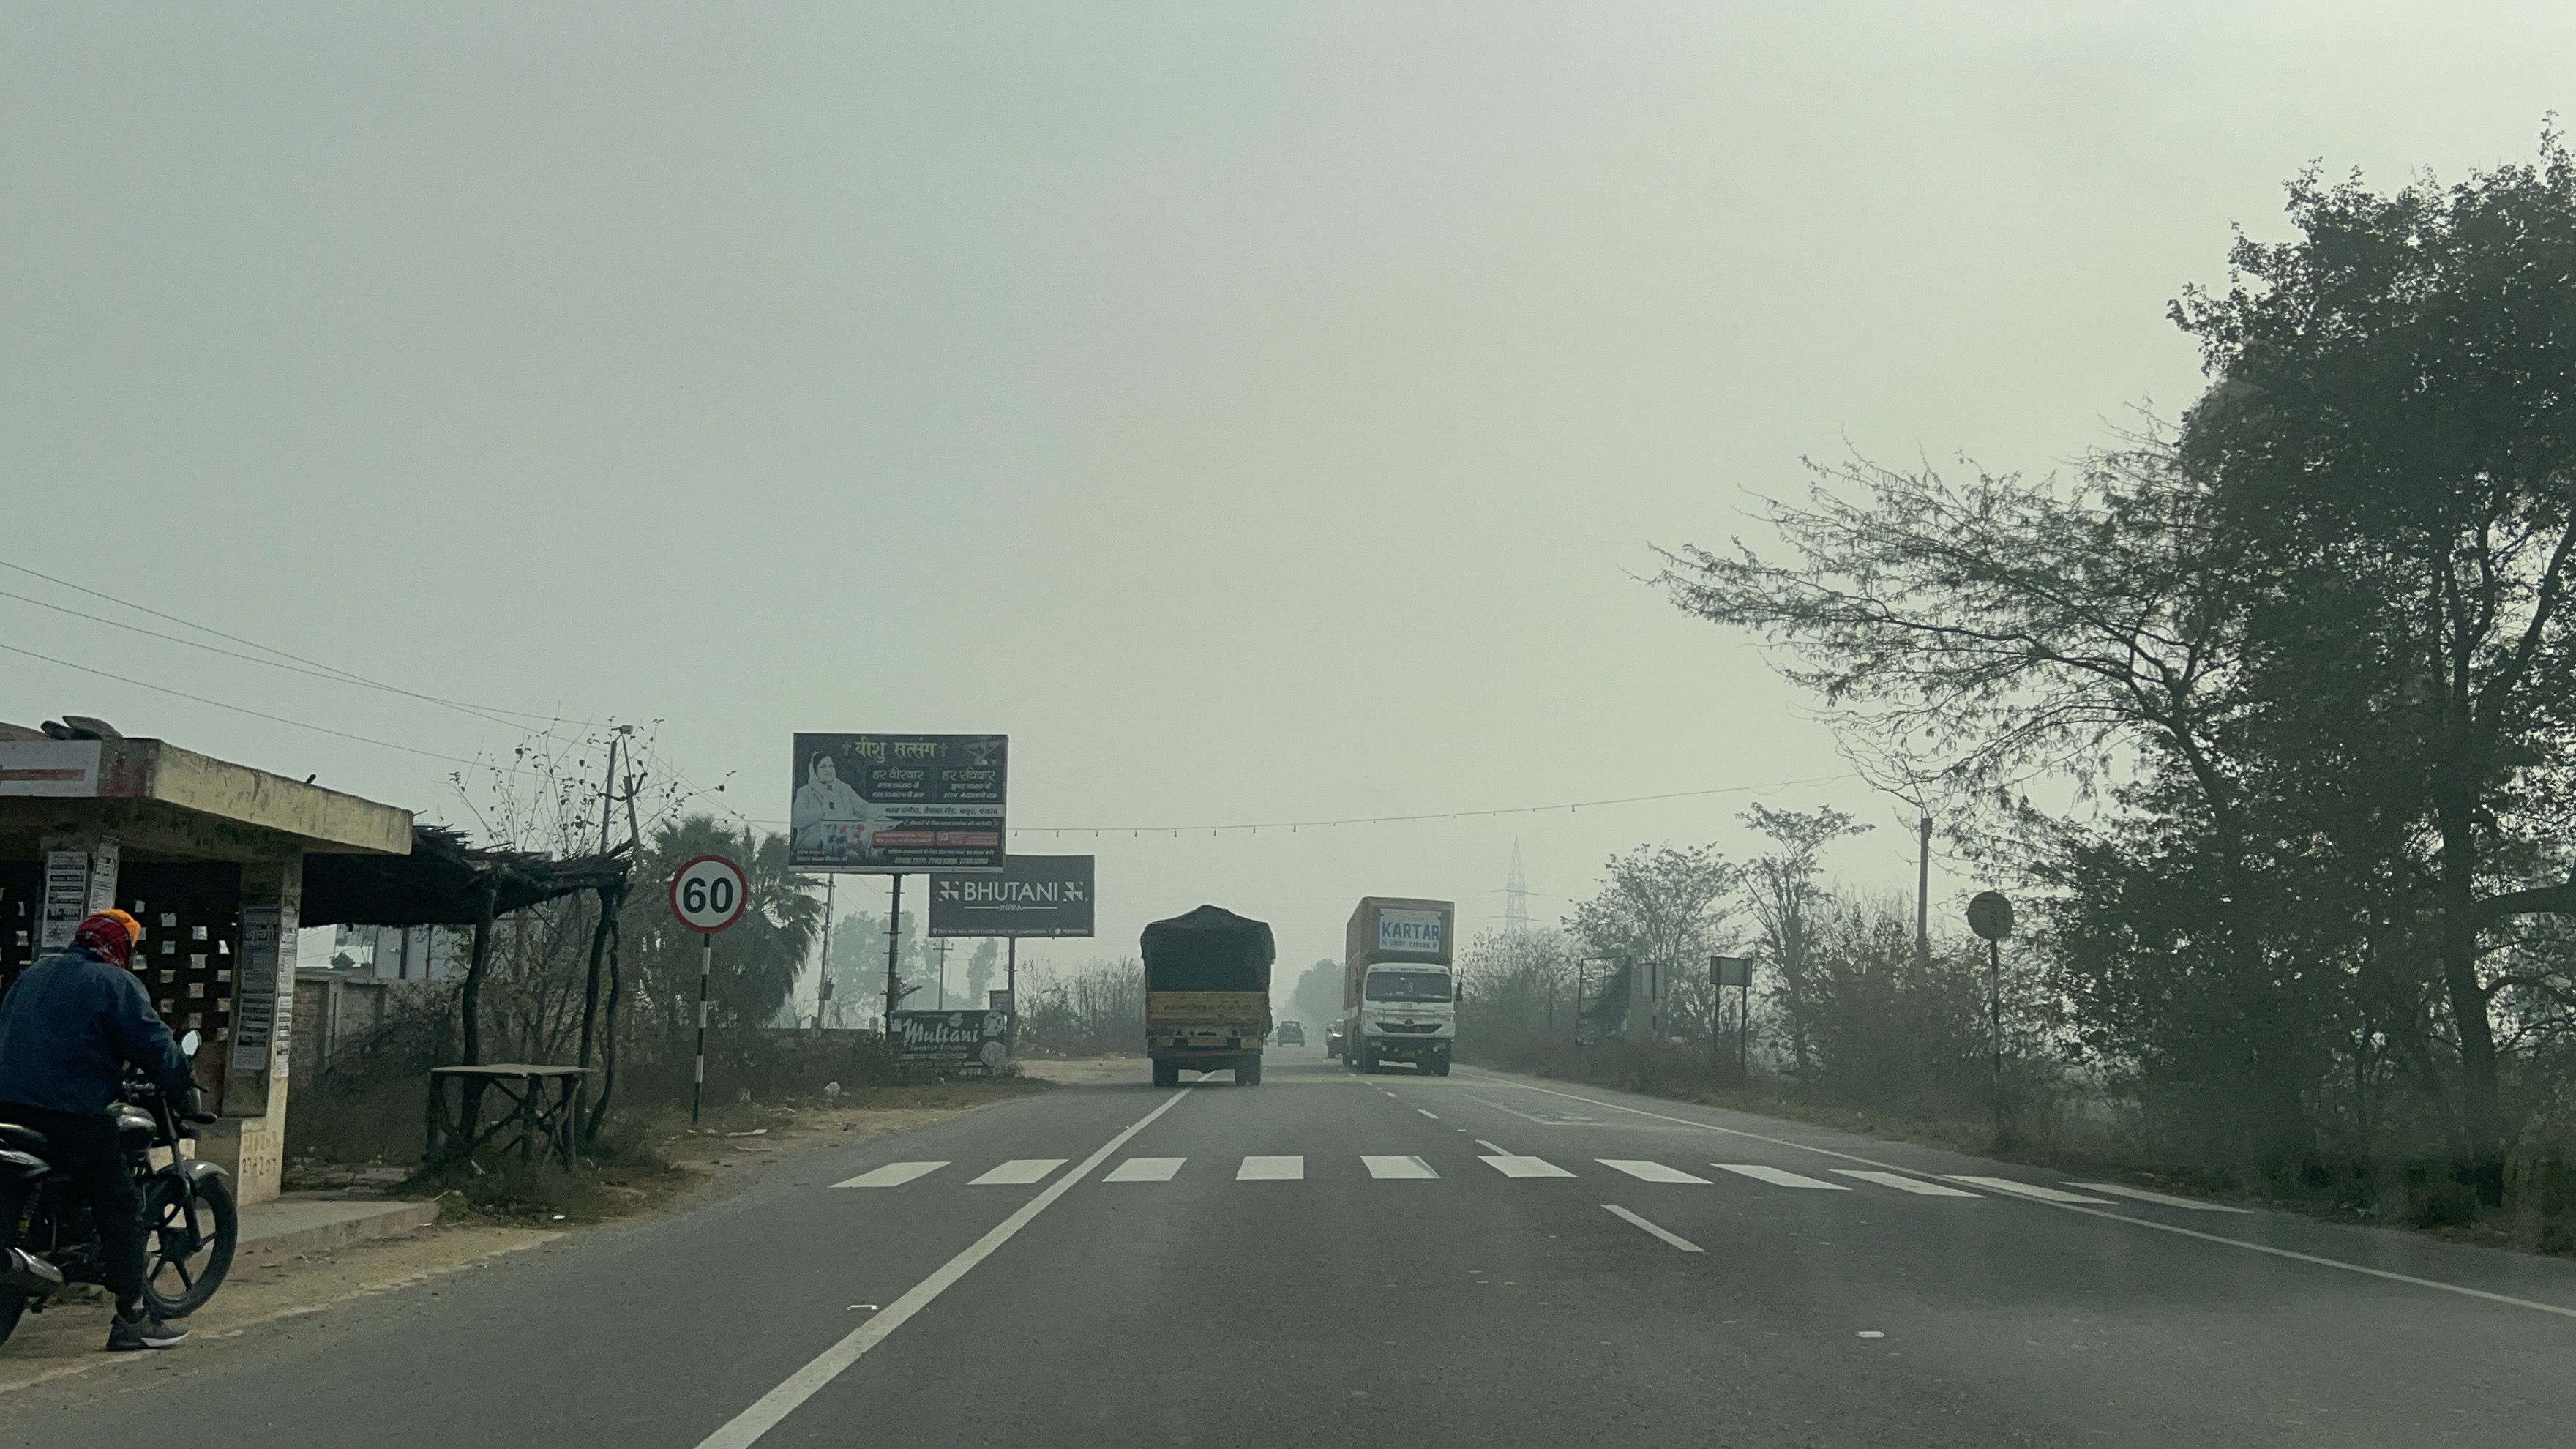Mandatory: (660, 849, 757, 939)
